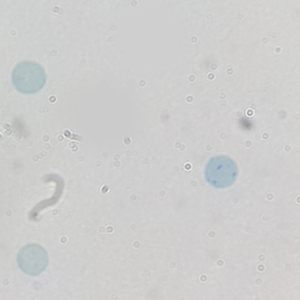aggregate reticulocyte: (203, 154, 240, 190)
erythrocyte: (10, 59, 48, 96), (15, 242, 50, 277)
